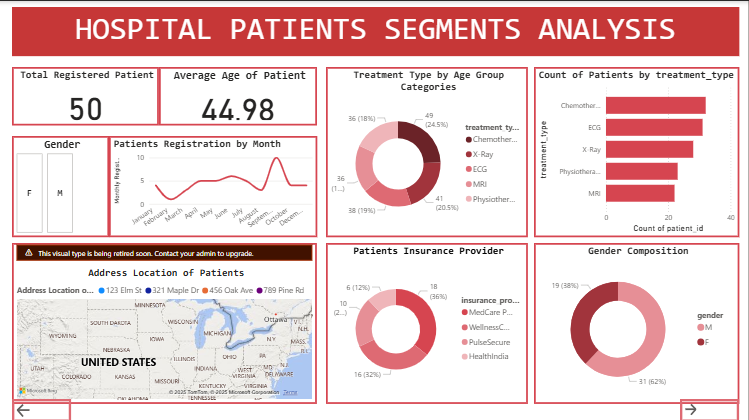

Layout of this report page (visuals, bound fields, positions):
{"tool":"powerbi","page":{"name":"PATIENTS","canvas":[1280,720],"ordinal":0},"visuals":[{"type":"textbox","box":[22,9.6,1242.8,84],"z":0},{"type":"cardVisual","title":"Total Registered Patient","fields":{"Data":["CountNonNull(PATIENTS.patient_id)"]},"box":[22.4,112,251,100.1],"z":1000},{"type":"advancedSlicerVisual","title":"Gender","fields":{"Values":["PATIENTS.gender"]},"box":[22.4,230,165.8,173.3],"z":2000},{"type":"donutChart","title":"Gender Composition","fields":{"Category":["PATIENTS.gender"],"Y":["CountNonNull(PATIENTS.gender)"]},"box":[914.2,413.8,351,274.9],"z":3000},{"type":"clusteredBarChart","title":"Count of Patients by treatment_type","fields":{"Category":["TREATMENT.treatment_type"],"Y":["CountNonNull(PATIENTS.patient_id)"]},"box":[914.2,112,351,291.3],"z":4000},{"type":"cardVisual","title":"Average Age of Patient","fields":{"Data":["PATIENTS.avg_age"]},"box":[273.4,112,270.4,100.1],"z":5000},{"type":"donutChart","title":"Treatment  Type by Age Group Categories","fields":{"Category":["PATIENTS.AgeGroup","TREATMENT.treatment_type"],"Y":["CountNonNull(TREATMENT.treatment_type)"]},"box":[558.7,112,345.1,291.3],"z":6000},{"type":"donutChart","title":"Patients Insurance Provider","fields":{"Category":["PATIENTS.insurance_provider"],"Y":["CountNonNull(PATIENTS.insurance_number)"]},"box":[558.7,413.8,345.1,274.9],"z":7000},{"type":"lineChart","title":"Patients Registration  by Month","fields":{"Category":["PATIENTS.registration_date.Variation.Date Hierarchy.Month"],"Y":["CountNonNull(PATIENTS.patient_id)"]},"box":[188.2,230,355.5,173.3],"z":8000},{"type":"filledMap","title":"Address Location of Patients ","fields":{"Category":["PATIENTS.address"],"Series":["PATIENTS.address"]},"box":[22.4,413.8,521.3,274.9],"z":9000},{"type":"actionButton","box":[22.2,680.2,100.8,39.3],"z":12001},{"type":"actionButton","box":[1163.8,680.2,100.8,39.3],"z":12002}]}

Visuals, with their boxes in screenshot pixels (x1, y1, x2, y2), scaled from the page's 1280x720 canvas onto the 749x420 screenshot:
textbox: bbox=(13, 6, 740, 55)
"Total Registered Patient" cardVisual: bbox=(13, 65, 160, 124)
"Gender" advancedSlicerVisual: bbox=(13, 134, 110, 235)
"Gender Composition" donutChart: bbox=(535, 241, 740, 402)
"Count of Patients by treatment_type" clusteredBarChart: bbox=(535, 65, 740, 235)
"Average Age of Patient" cardVisual: bbox=(160, 65, 318, 124)
"Treatment  Type by Age Group Categories" donutChart: bbox=(327, 65, 529, 235)
"Patients Insurance Provider" donutChart: bbox=(327, 241, 529, 402)
"Patients Registration  by Month" lineChart: bbox=(110, 134, 318, 235)
"Address Location of Patients " filledMap: bbox=(13, 241, 318, 402)
actionButton: bbox=(13, 397, 72, 419)
actionButton: bbox=(681, 397, 740, 419)
